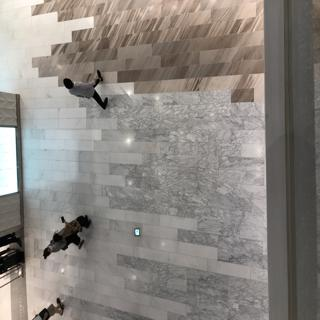person: (50, 66, 111, 117), (39, 215, 98, 262), (24, 301, 74, 320)
